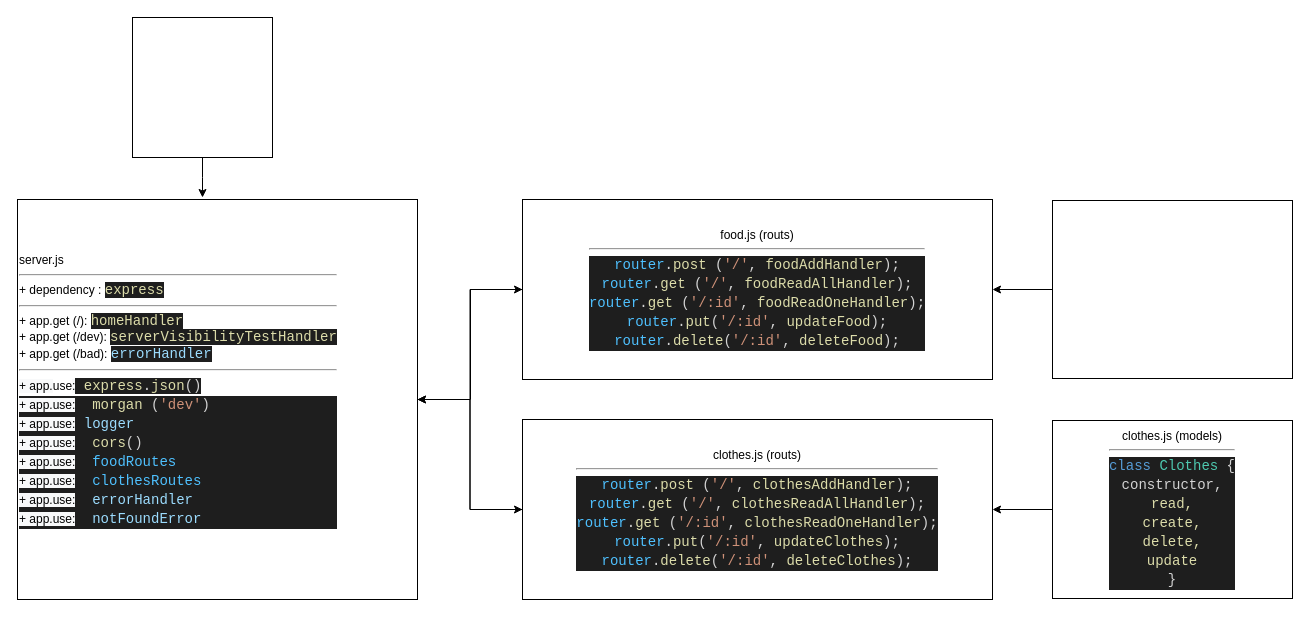
This 1310x617 diagram has some shape labels left out. The centre of each missing label's shape, as x and y in pixels:
"food.js (models) class Food { constructor, read, create, delete, update }" goes at pixel 1172 289.
"index.js + dependency : dotenv server.start ()" goes at pixel 202 87.
